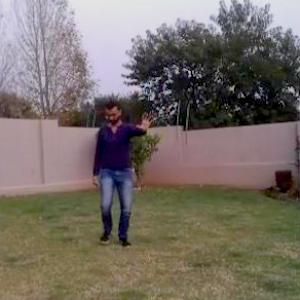follow_hand: (134, 109, 156, 133)
